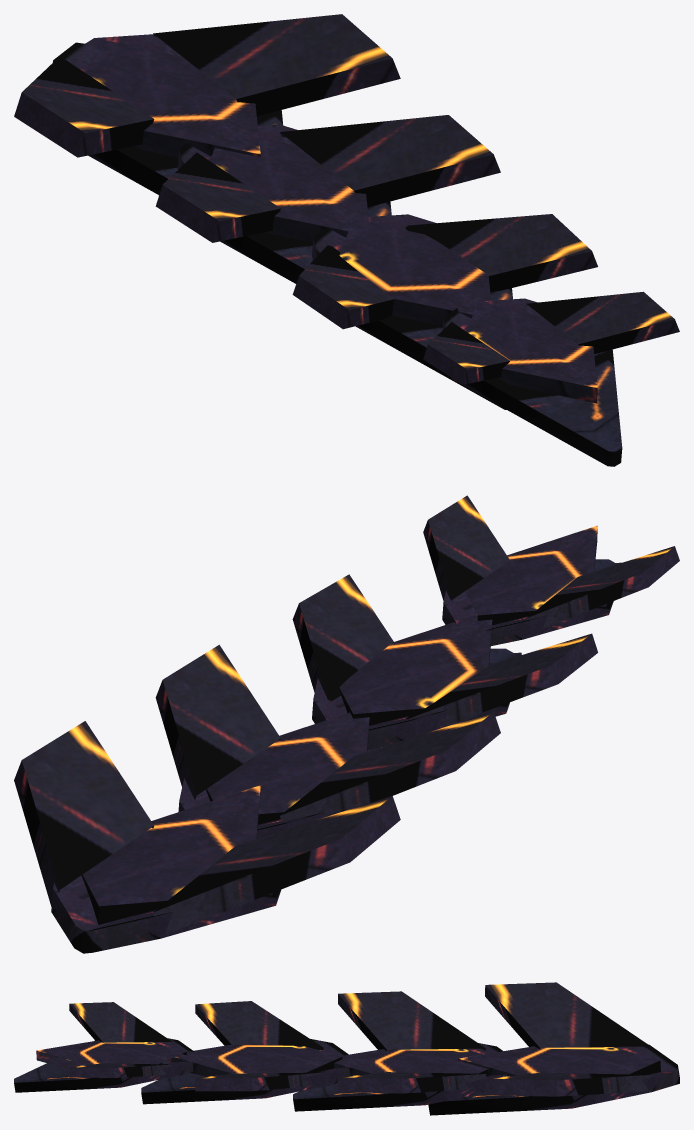
File: ship16i.fbx
The picture shows the model from 3 angles, top to bottom: view 1: azimuth 30°, elevation 25°; view 2: azimuth 150°, elevation 25°; view 3: azimuth 270°, elevation 25°; orthographic projection. The views are drawn at different scales.
Parts seen in each view (by area): view 1: PipelineFBX; view 2: PipelineFBX; view 3: PipelineFBX.
Part boxes in pixels (bbox=[...]): PipelineFBX: bbox=[14, 14, 679, 466]; PipelineFBX: bbox=[14, 495, 679, 953]; PipelineFBX: bbox=[14, 982, 679, 1115].
Bounding box in the file's own units: 156 × 59.07 × 428.
Materials: 1 (1 with a texture image).
